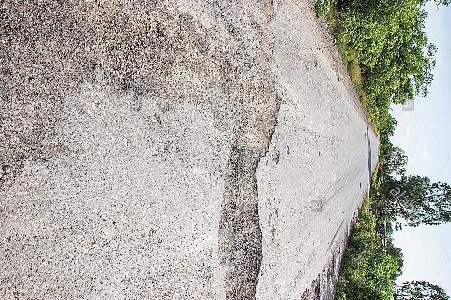pothole: (214, 170, 265, 299), (224, 83, 286, 160)
